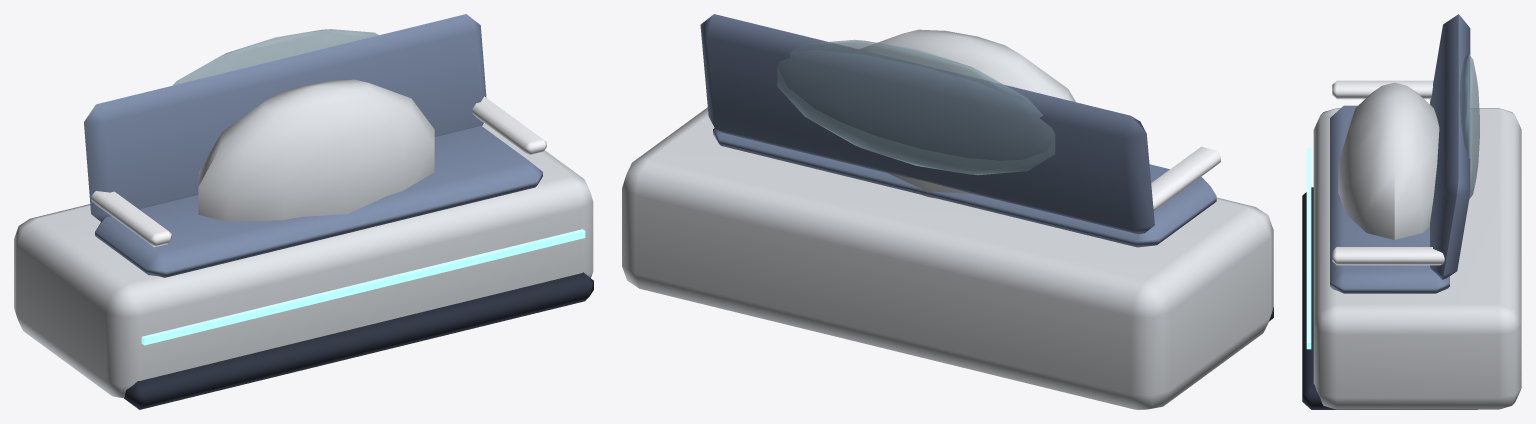
Rendered from capsule_bench.glb.
3 renders of one model, left to right at view 1: azimuth 30°, elevation 25°; view 2: azimuth 150°, elevation 25°; view 3: azimuth 270°, elevation 25°, orthographic. The views are drawn at different scales.
Visible parts, largest first — view 1: capsule_bench; view 2: capsule_bench; view 3: capsule_bench.
Part boxes in pixels (left/top/right/bottom): capsule_bench: left=14, top=14, right=593, bottom=409; capsule_bench: left=622, top=14, right=1273, bottom=409; capsule_bench: left=1302, top=14, right=1521, bottom=409.
Size of the model in its own units: 2.2 by 1.11 by 0.95.
